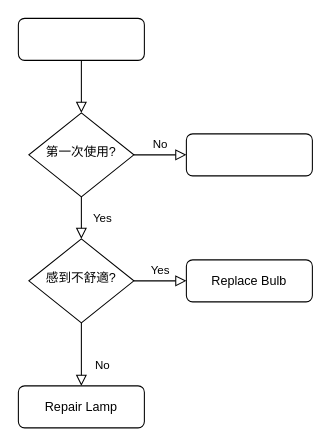
This 331x446 diagram has some shape labels left out. The shapes that lost their labels are listed below. From the top down, each one's box as (x1, y1, x2, y2) in pixels, then its label:
(17, 17, 144, 60): start
(185, 133, 312, 176): Plug in lamp
